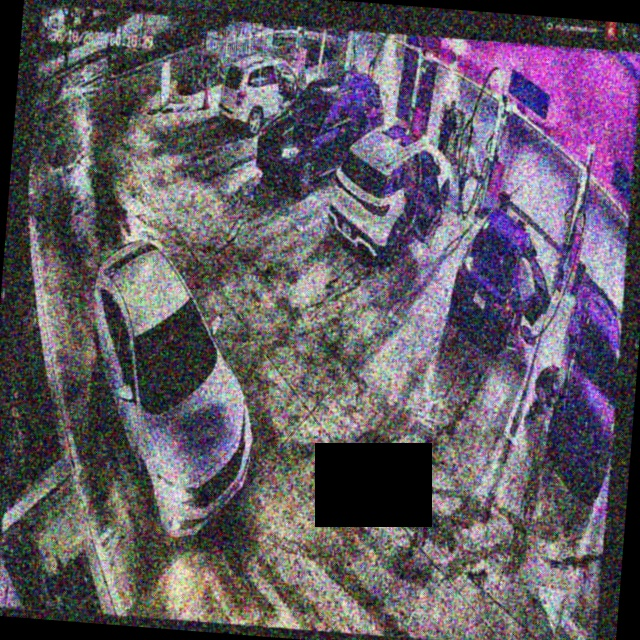Car: (72, 233, 267, 542), (326, 119, 454, 263), (255, 63, 386, 191), (447, 208, 557, 354)
